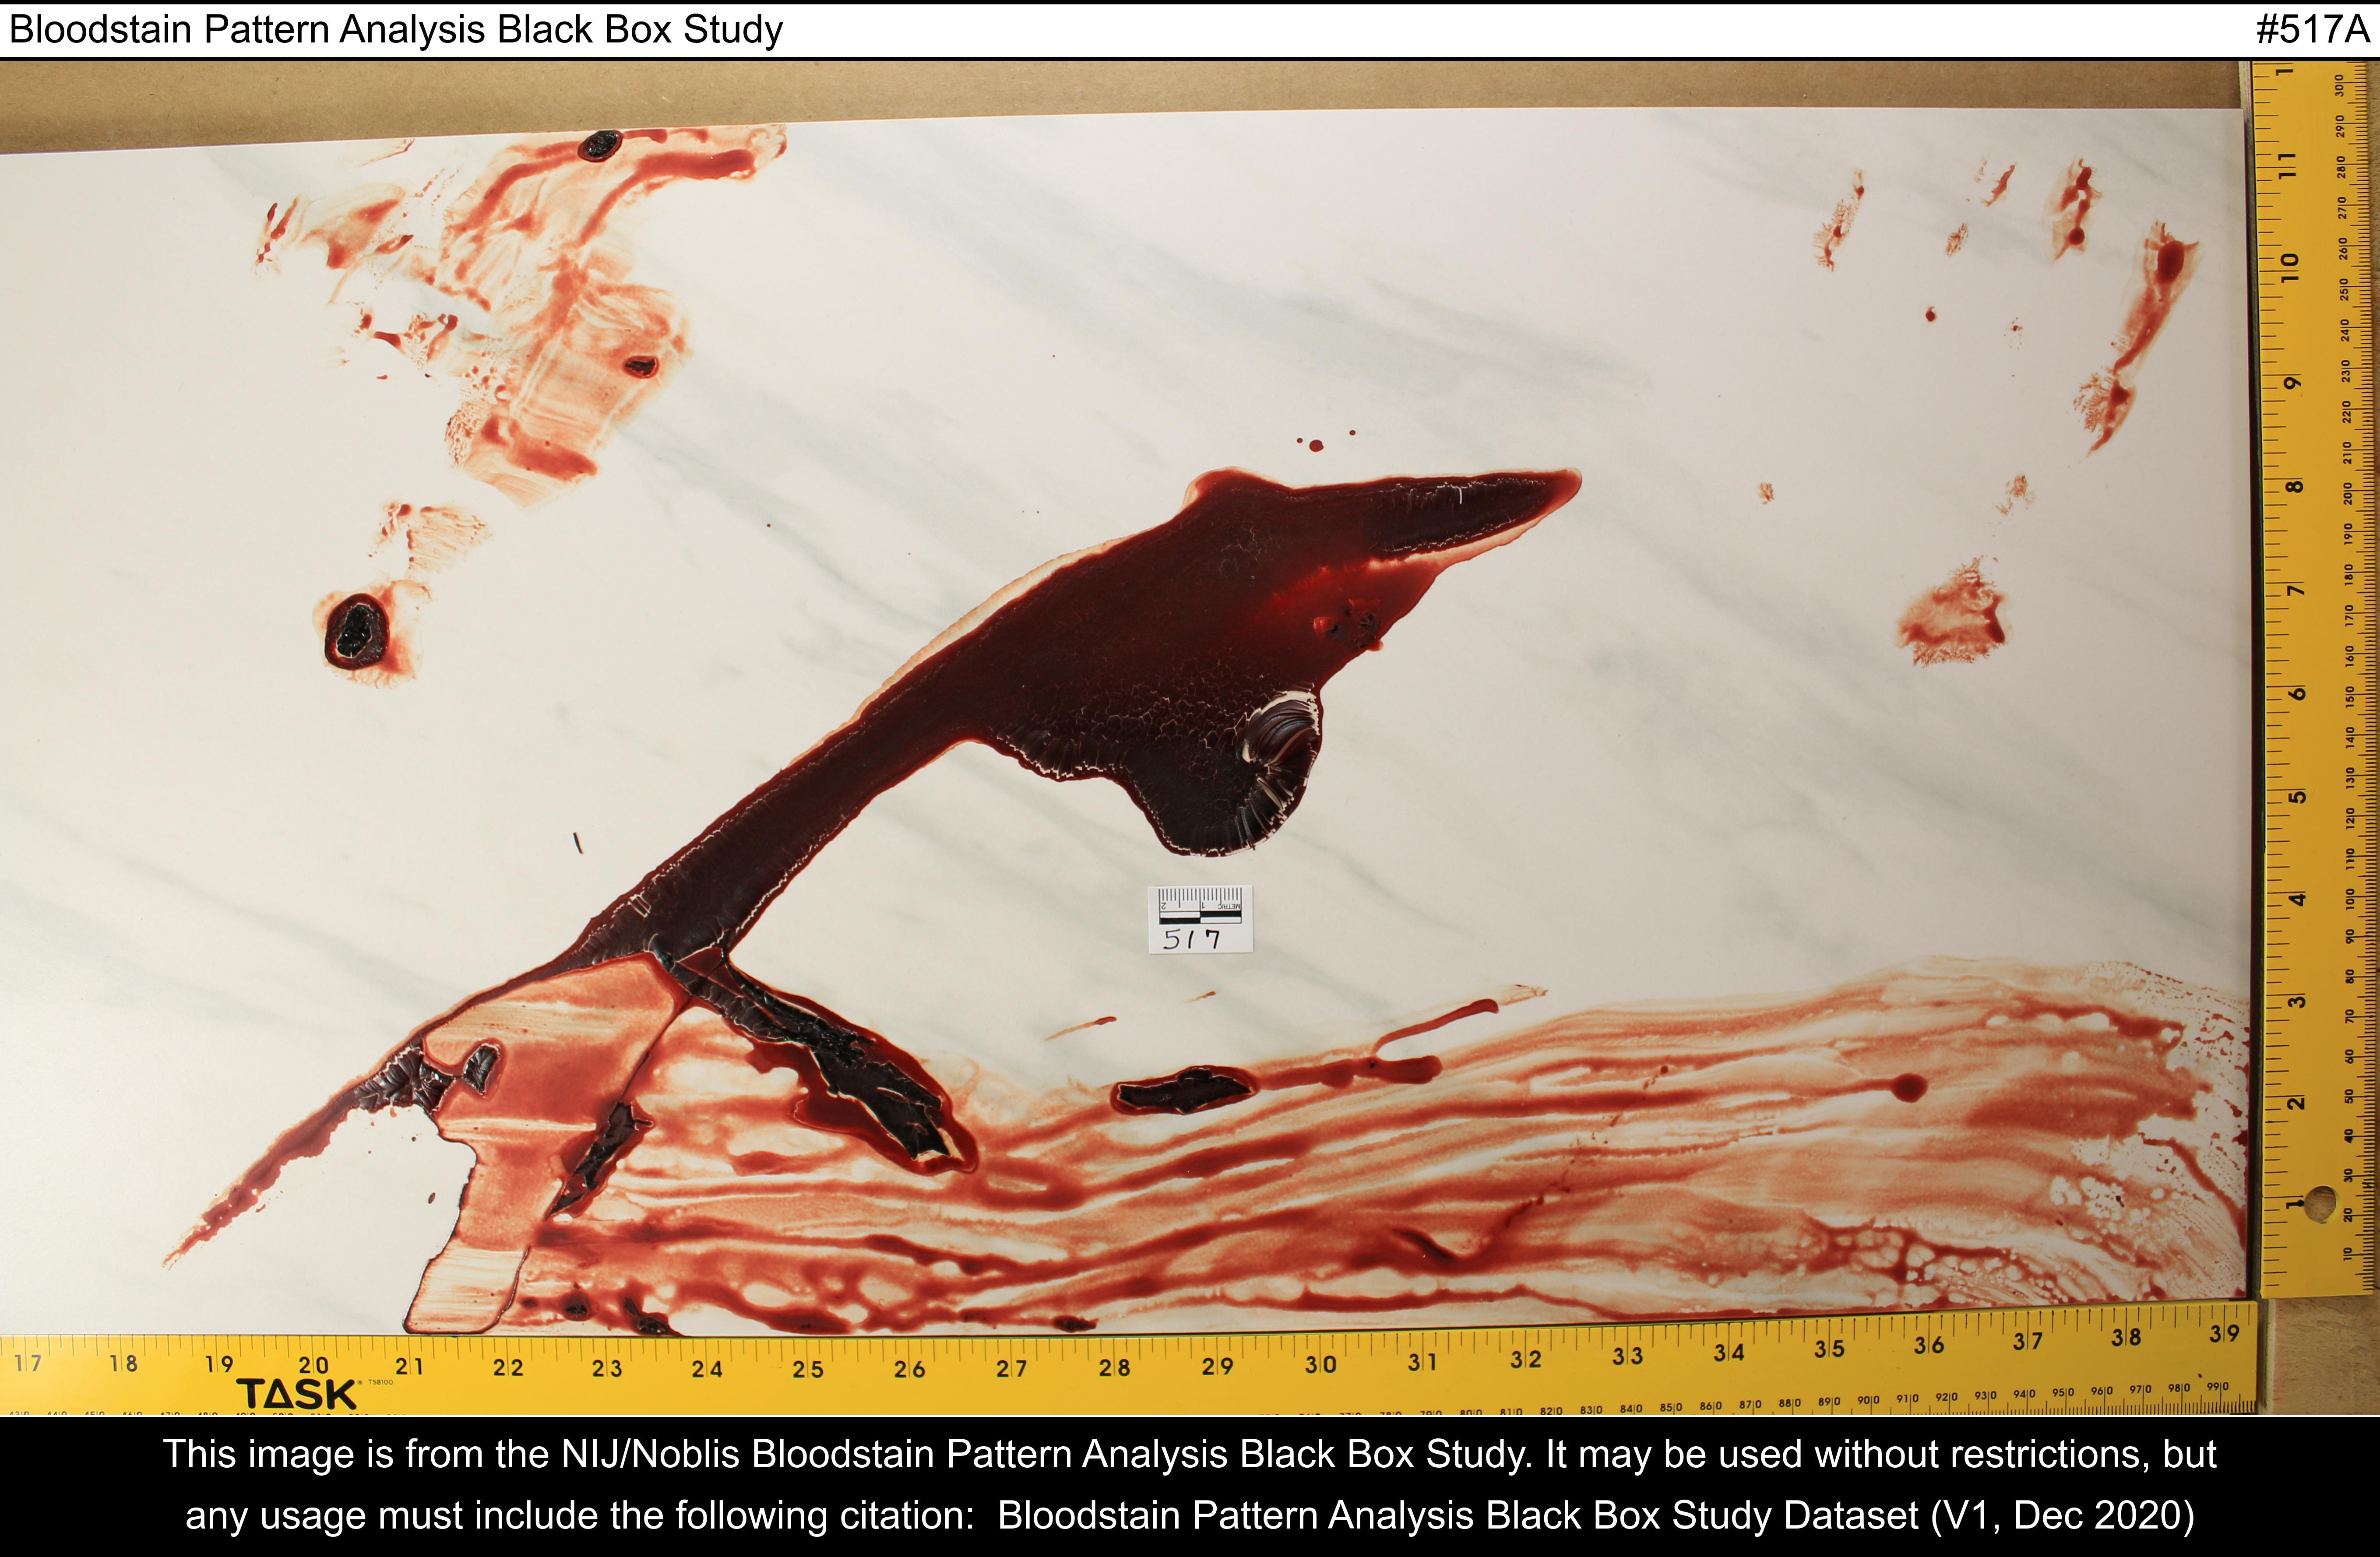Transfer: (236, 438, 2215, 1295)
